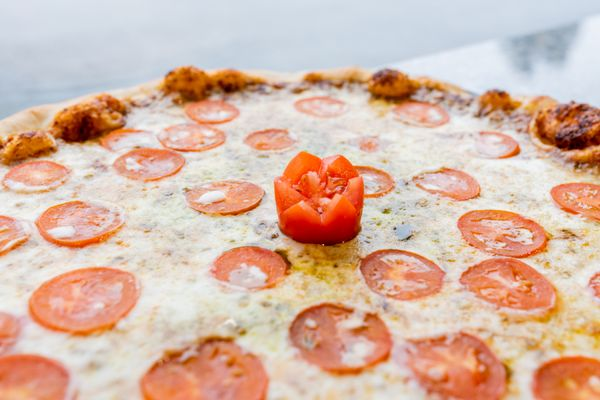sandwich: (3, 62, 600, 391)
